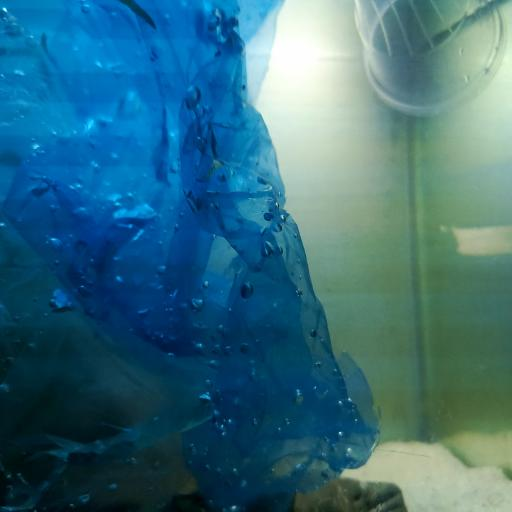plastic_bag: (0, 0, 382, 503)
plastic_cup: (358, 0, 506, 116)
